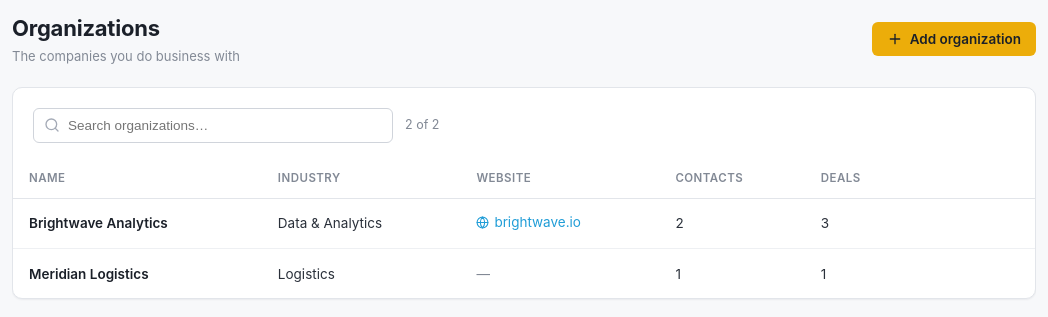
Test: Organizations page › narrows the list as you type in the search box
Check: the text "Brightwave Analytics" is shown, box [29,215,168,231]
In the field labelled "Search organizations": (213, 125) [33,108,393,142], type "bright"
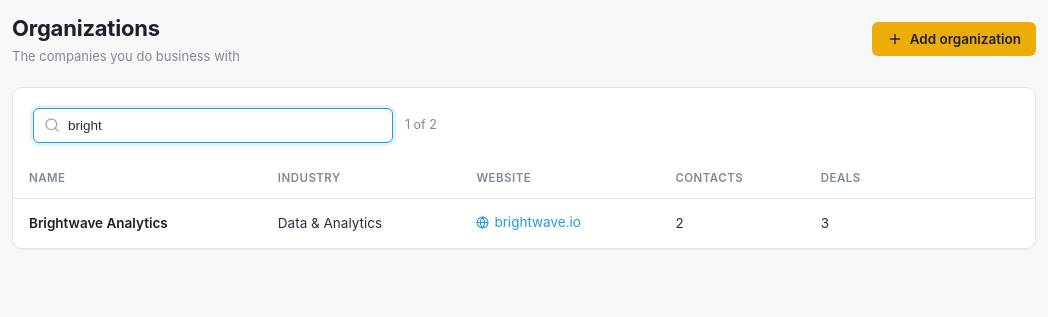
Check: the text "Brightwave Analytics" is shown, box [29,215,168,231]
Check: the text "Meridian Logistics" is gone
